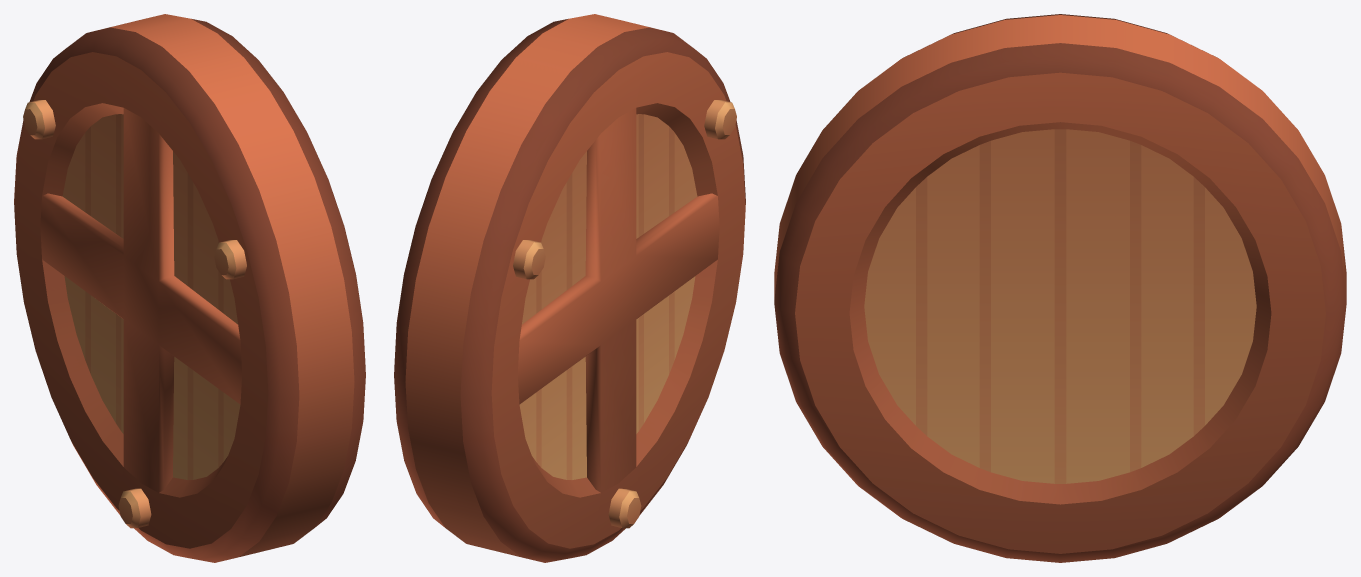
File: Shield_V2_02.fbx
3 renders of one model, left to right at view 1: azimuth 30°, elevation 25°; view 2: azimuth 150°, elevation 25°; view 3: azimuth 270°, elevation 25°, orthographic. The views are drawn at different scales.
Visible parts, largest first — view 1: Shield_V2_02; view 2: Shield_V2_02; view 3: Shield_V2_02.
Part boxes in pixels (x1=…): Shield_V2_02: x1=14, y1=14, x2=365, y2=562; Shield_V2_02: x1=394, y1=14, x2=745, y2=562; Shield_V2_02: x1=774, y1=14, x2=1346, y2=562.
Bounding box in the file's own units: 9.61 × 40.37 × 40.37.
